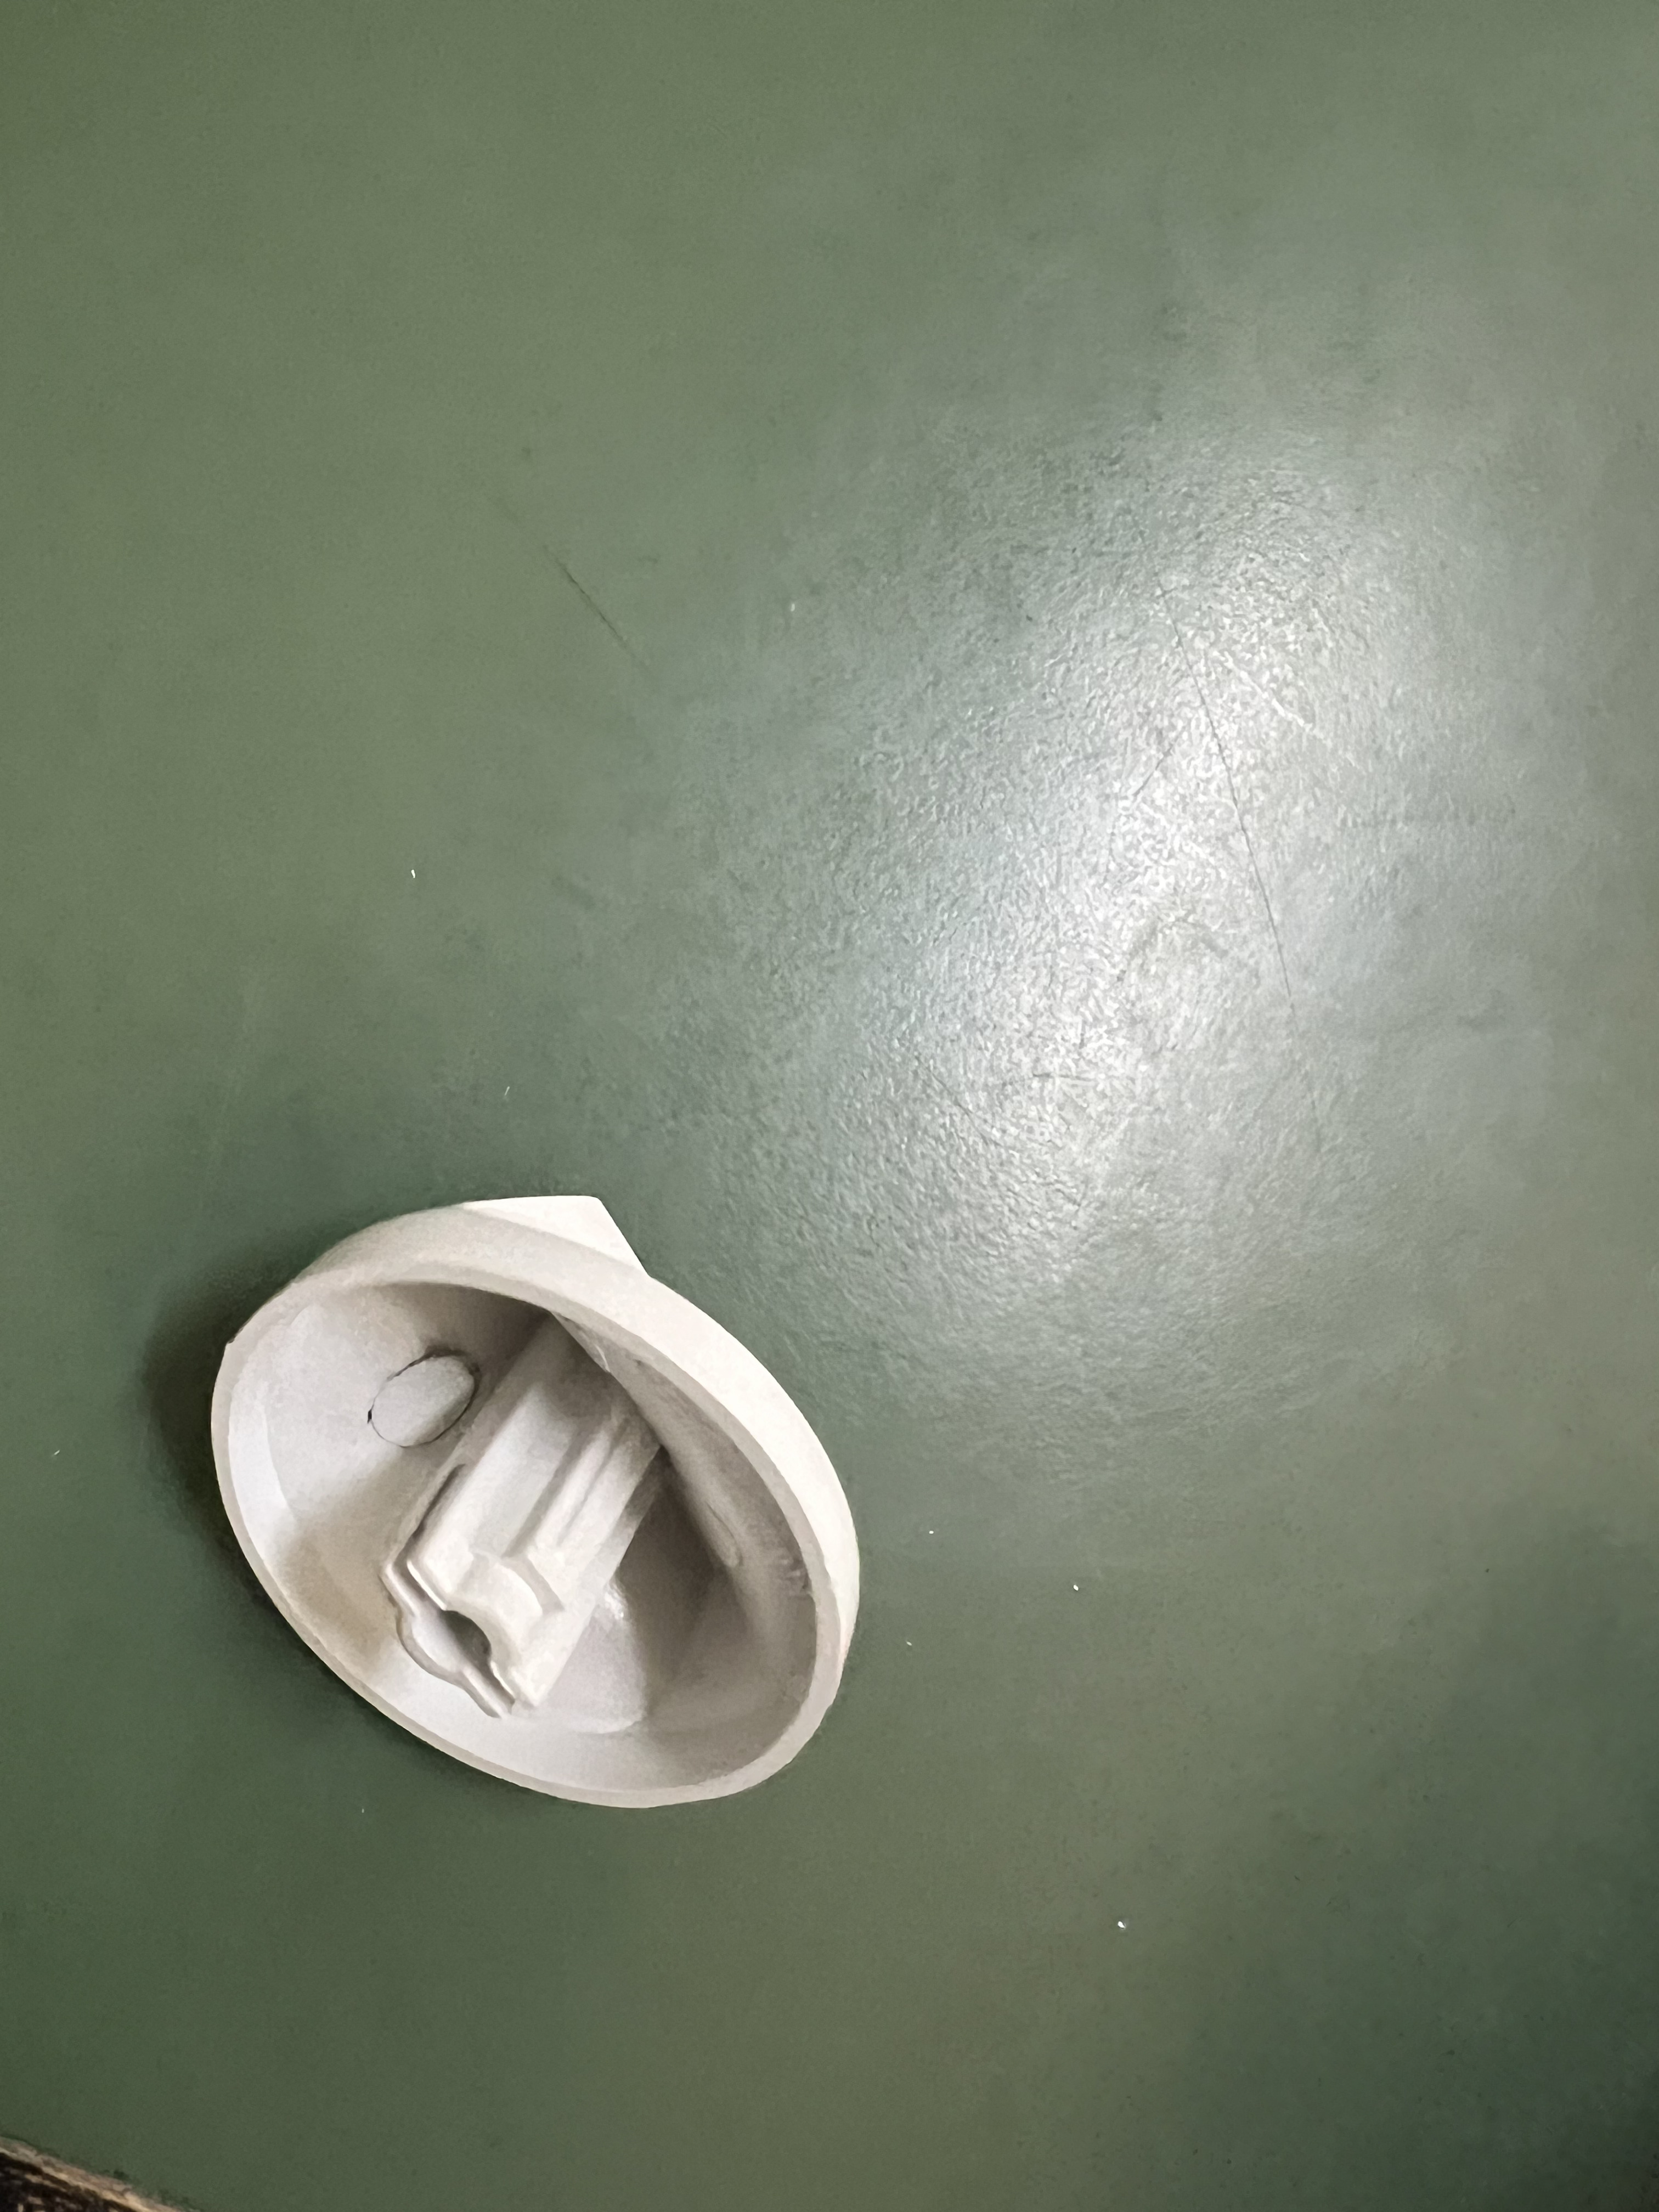regulator: (193, 1127, 870, 1810)
